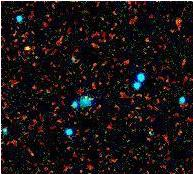star: (10, 35, 40, 65)
